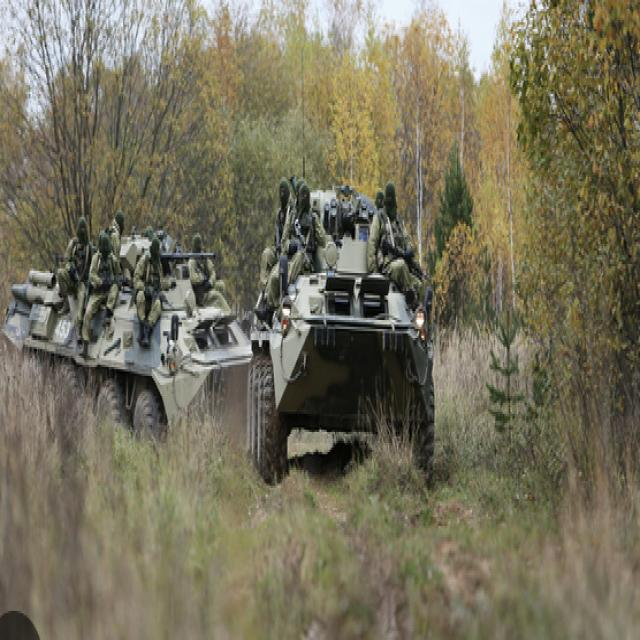MIL_APC: (7, 230, 255, 485), (247, 180, 438, 487)
